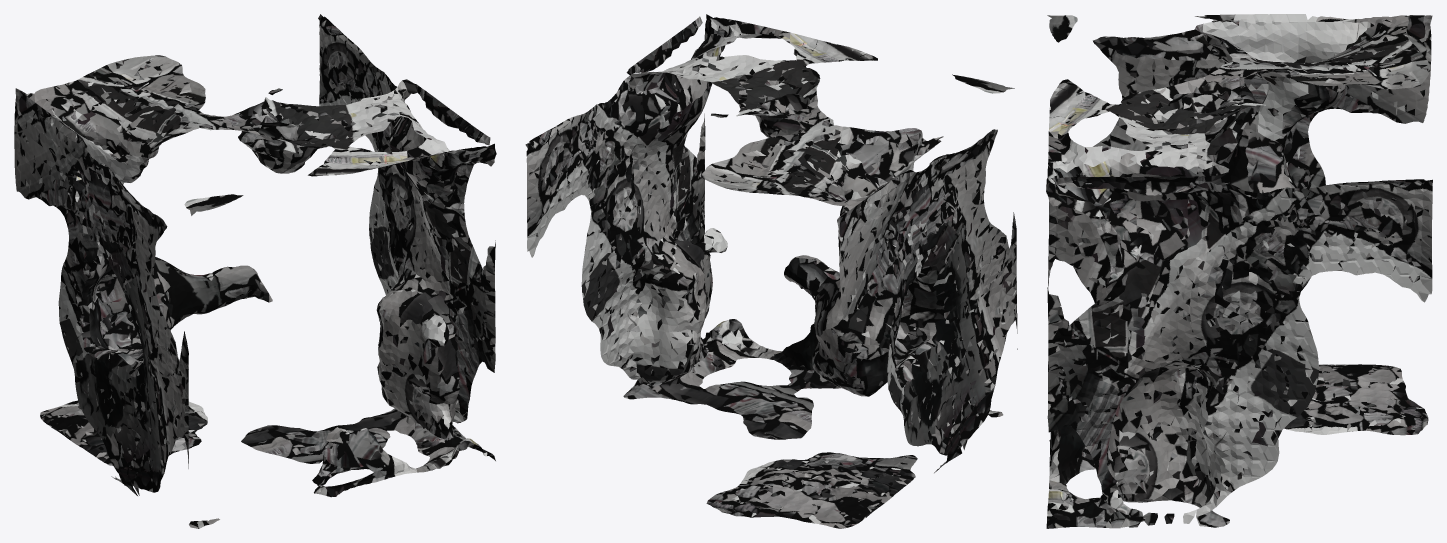
3 views of the same model, side by side, from view 1: azimuth 30°, elevation 25°; view 2: azimuth 150°, elevation 25°; view 3: azimuth 270°, elevation 25° (orthographic). The views are drawn at different scales.
Bounding box in the file's own units: 1.01 × 1.01 × 1.
